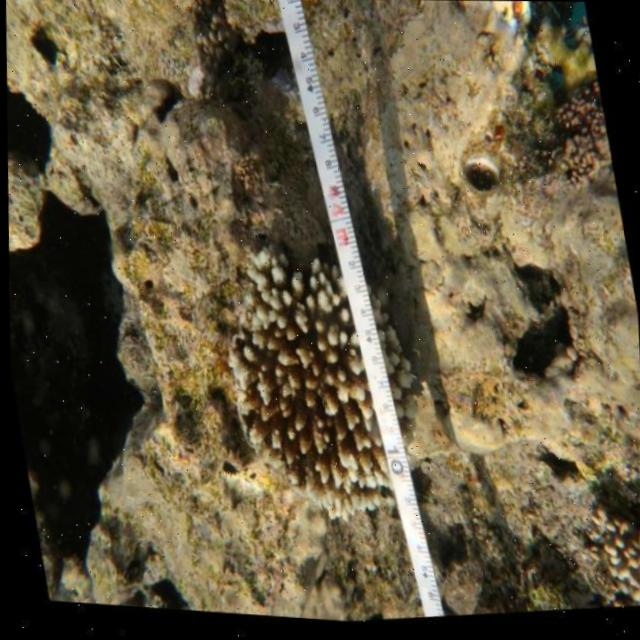Healthy Coral: (224, 251, 404, 513)
